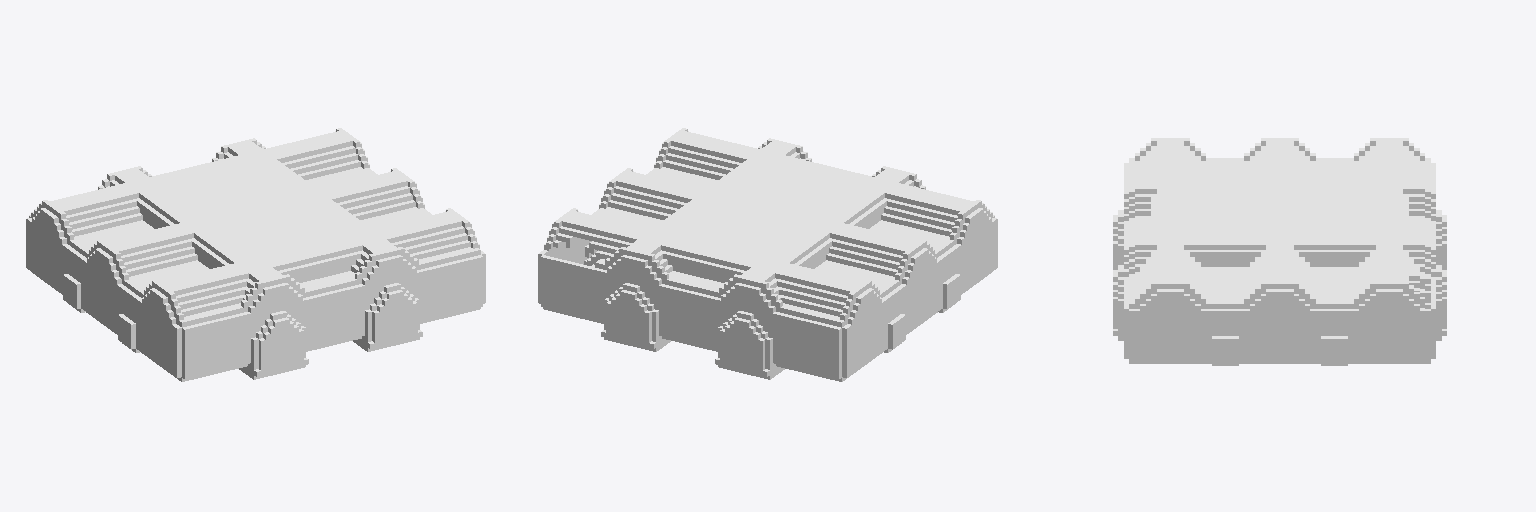
3 renders of one model, left to right at view 1: azimuth 30°, elevation 25°; view 2: azimuth 150°, elevation 25°; view 3: azimuth 270°, elevation 25°, orthographic.
Parts seen in each view (by area): view 1: 4482-app-3-levels__-83_3_-56_to_-11_25_9; view 2: 4482-app-3-levels__-83_3_-56_to_-11_25_9; view 3: 4482-app-3-levels__-83_3_-56_to_-11_25_9.
Boxes of the visible parts, <box> form: 4482-app-3-levels__-83_3_-56_to_-11_25_9: <box>26,128,485,381</box>; 4482-app-3-levels__-83_3_-56_to_-11_25_9: <box>538,128,997,381</box>; 4482-app-3-levels__-83_3_-56_to_-11_25_9: <box>1113,138,1446,365</box>.
Bounding box in the file's own units: 67 × 18 × 61.